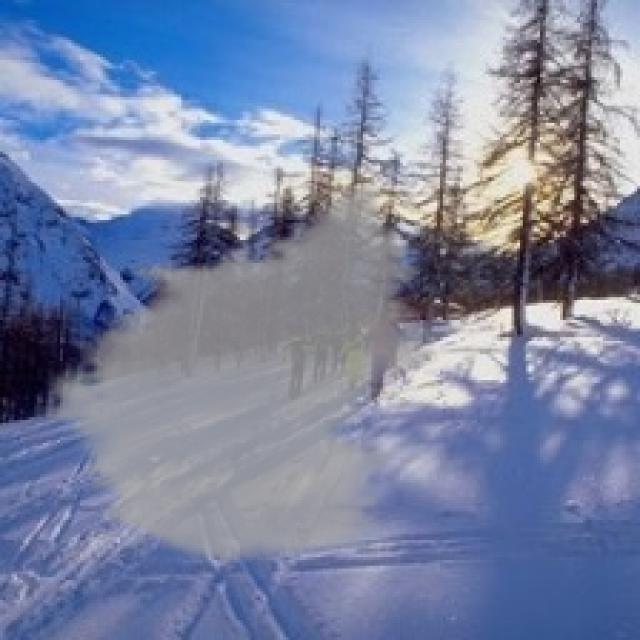smoke: (34, 177, 452, 569)
